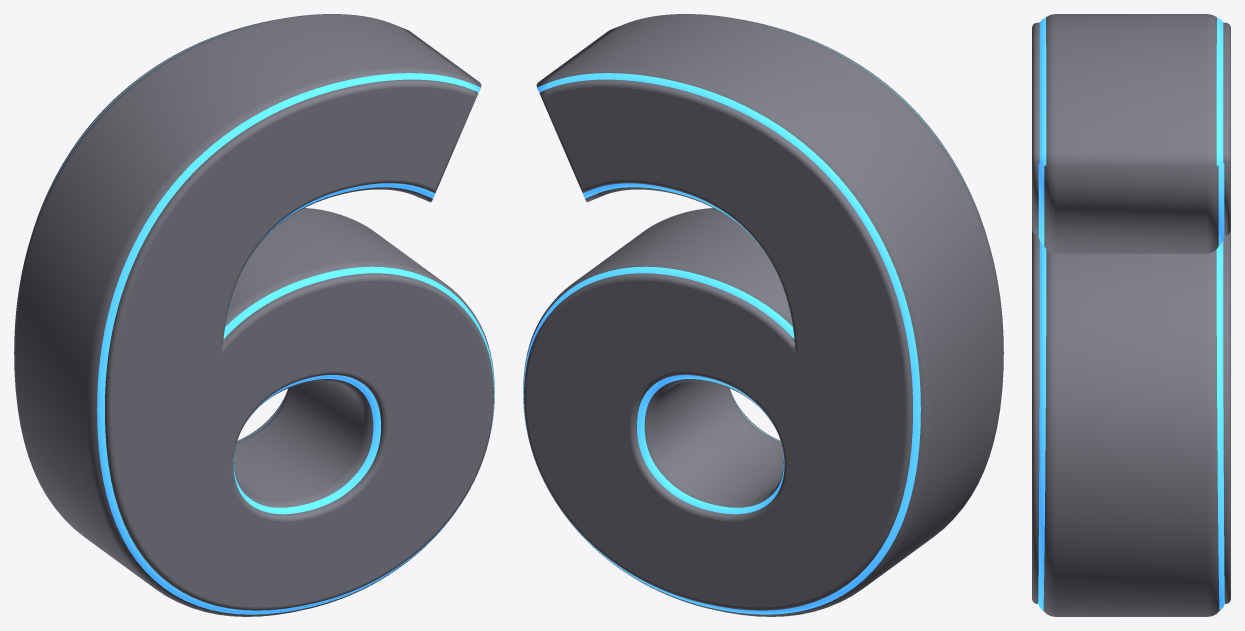
3 renders of one model, left to right at view 1: azimuth 30°, elevation 25°; view 2: azimuth 150°, elevation 25°; view 3: azimuth 270°, elevation 25°, orthographic. The views are drawn at different scales.
Parts seen in each view (by area): view 1: N_6_smaller, N_6_side, N_6_border; view 2: N_6_smaller, N_6_side, N_6_border; view 3: N_6_side, N_6_smaller, N_6_border.
Part boxes in pixels (x1=…): N_6_smaller: x1=33, y1=20, x2=493, y2=610; N_6_side: x1=14, y1=14, x2=494, y2=616; N_6_border: x1=41, y1=27, x2=494, y2=614; N_6_smaller: x1=524, y1=20, x2=984, y2=610; N_6_side: x1=523, y1=14, x2=1003, y2=616; N_6_border: x1=523, y1=27, x2=976, y2=614; N_6_side: x1=1043, y1=14, x2=1219, y2=616; N_6_smaller: x1=1032, y1=22, x2=1230, y2=603; N_6_border: x1=1038, y1=17, x2=1224, y2=610.
Bounding box in the file's own units: 0.4607 × 0.5695 × 0.184.
